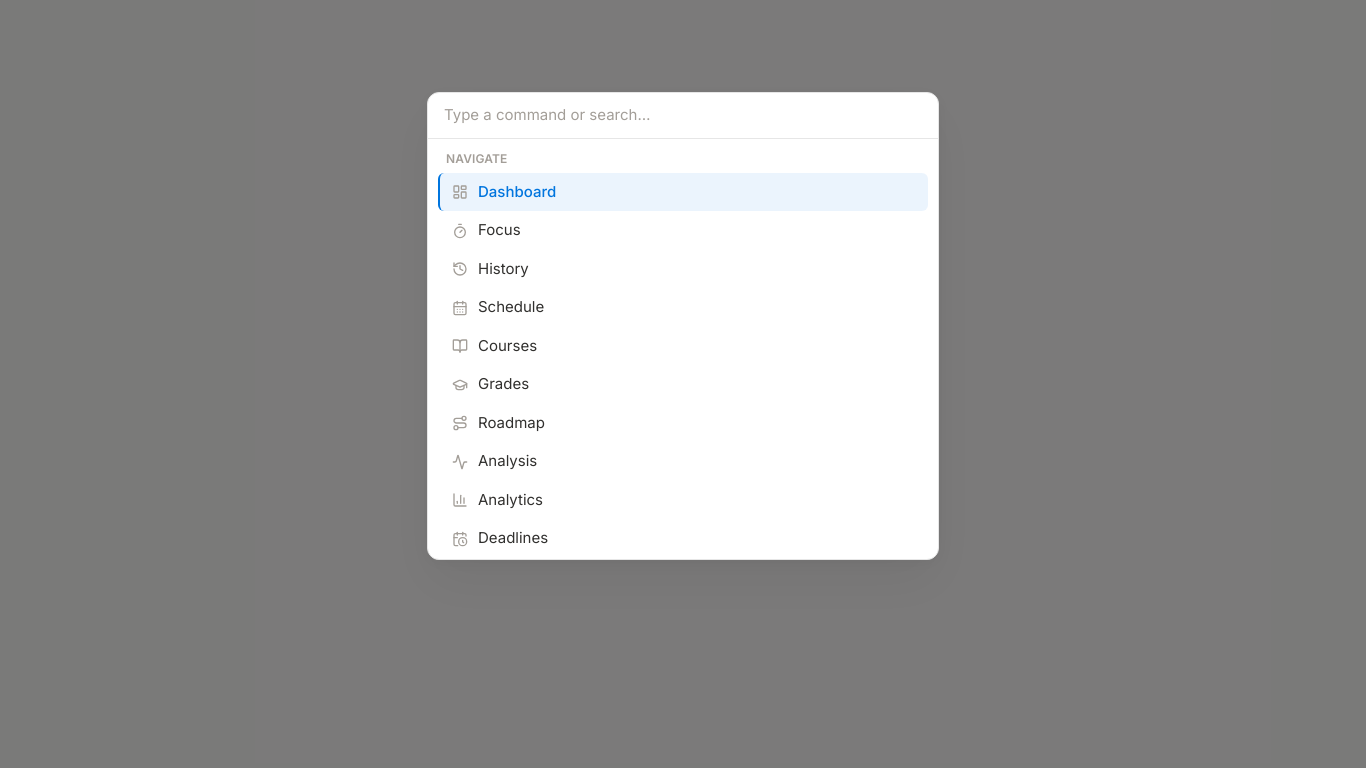
CommandPalette › filters the list as the user types
Type "deadlin" into the dropdown with placeholder "Type a command or search…".
click(683, 116); type("deadlin")  # box [428,93,938,139]
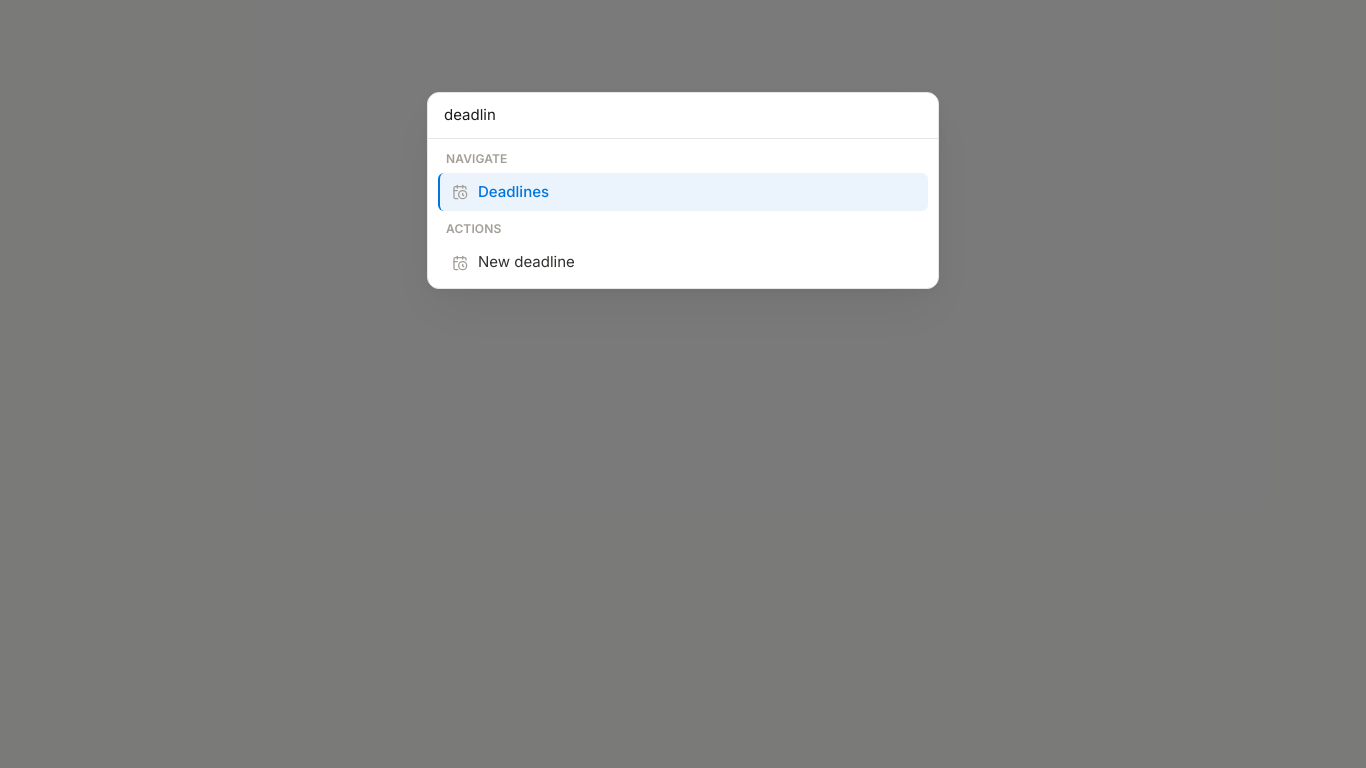
Expected: the text "Deadlines" is shown, [478,181,549,203]
Expected: the option "Schedule" is gone
